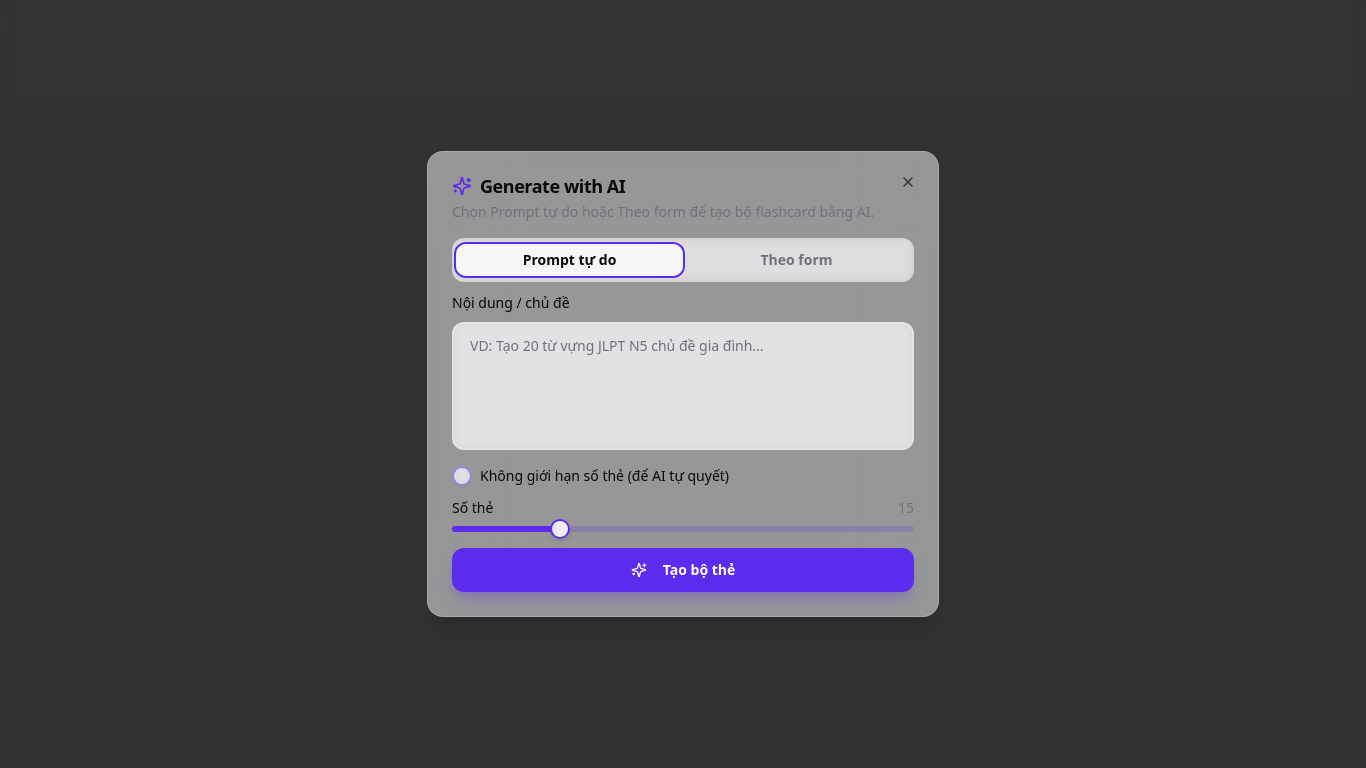
Test: AIGenerateModal › Scenario: Loading displayed
The image size is (1366, 768).
Type "Valid prompt for loading test" into the text box labelled "Nội dung / chủ đề" at (683,386), box [452,322,914,450]
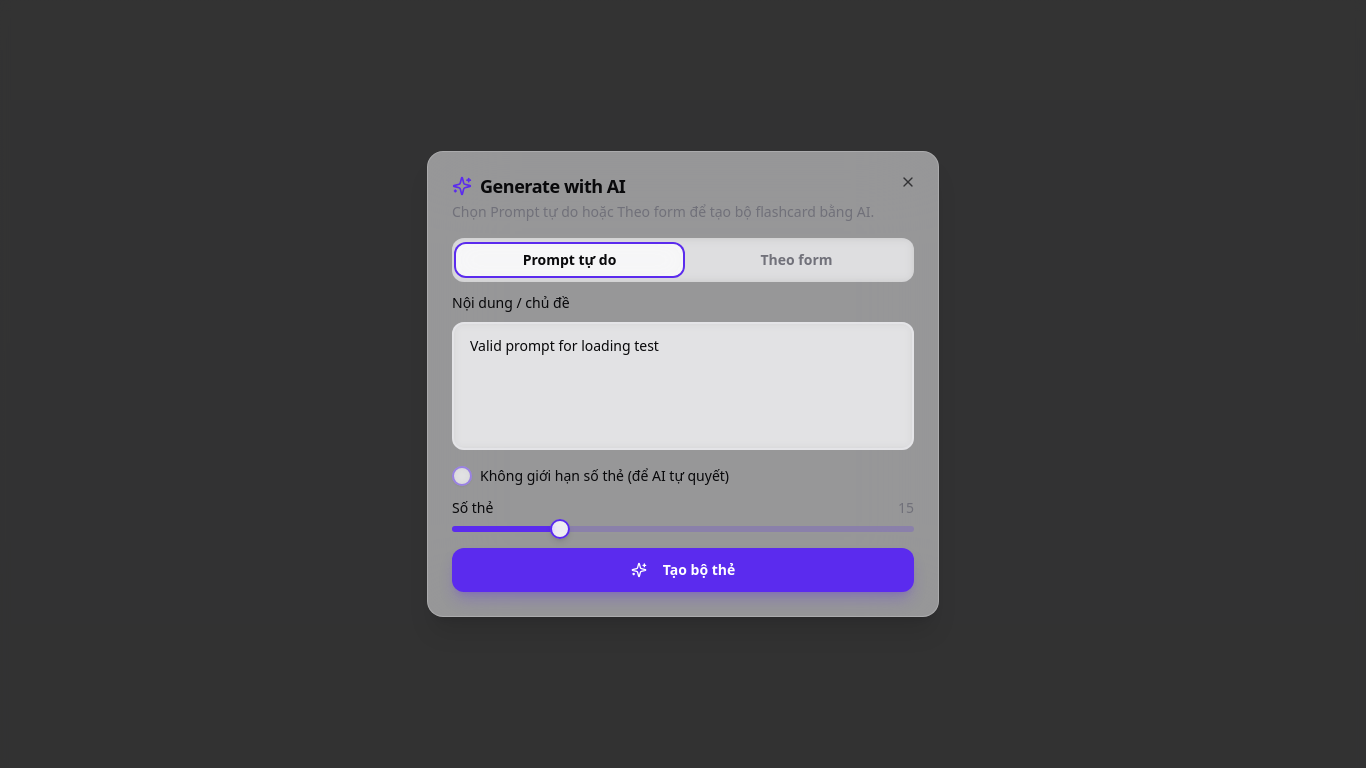
Click the button "Tạo bộ thẻ" at (683,570), box [452,548,914,592]
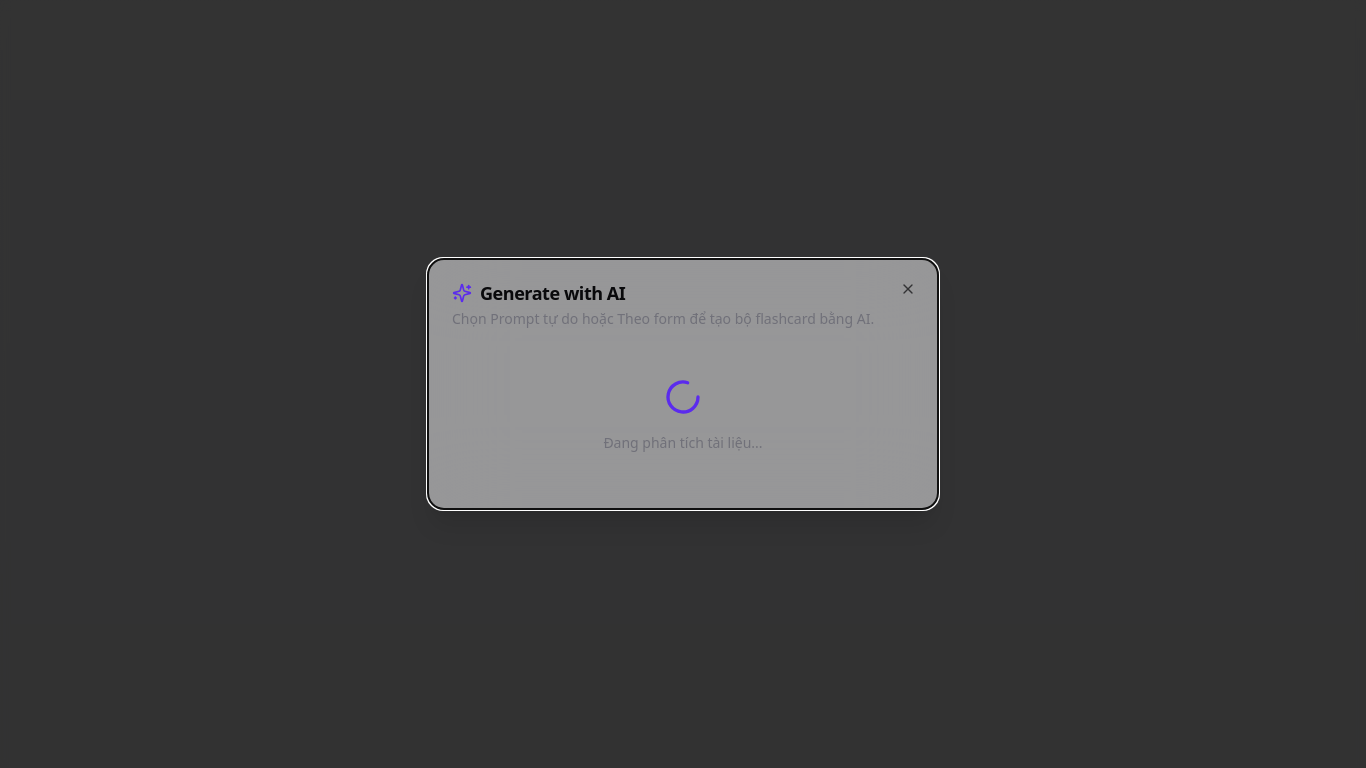
Result: the text "Đang phân tích tài liệu..." is shown at [603,433,763,453]
